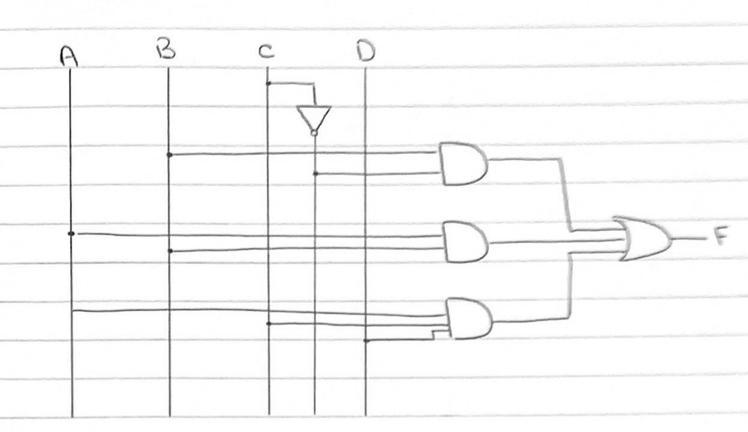AND: (438, 288, 504, 346), (428, 131, 491, 191), (434, 213, 497, 272)
NOT: (289, 100, 338, 142)
OR: (602, 208, 680, 272)
